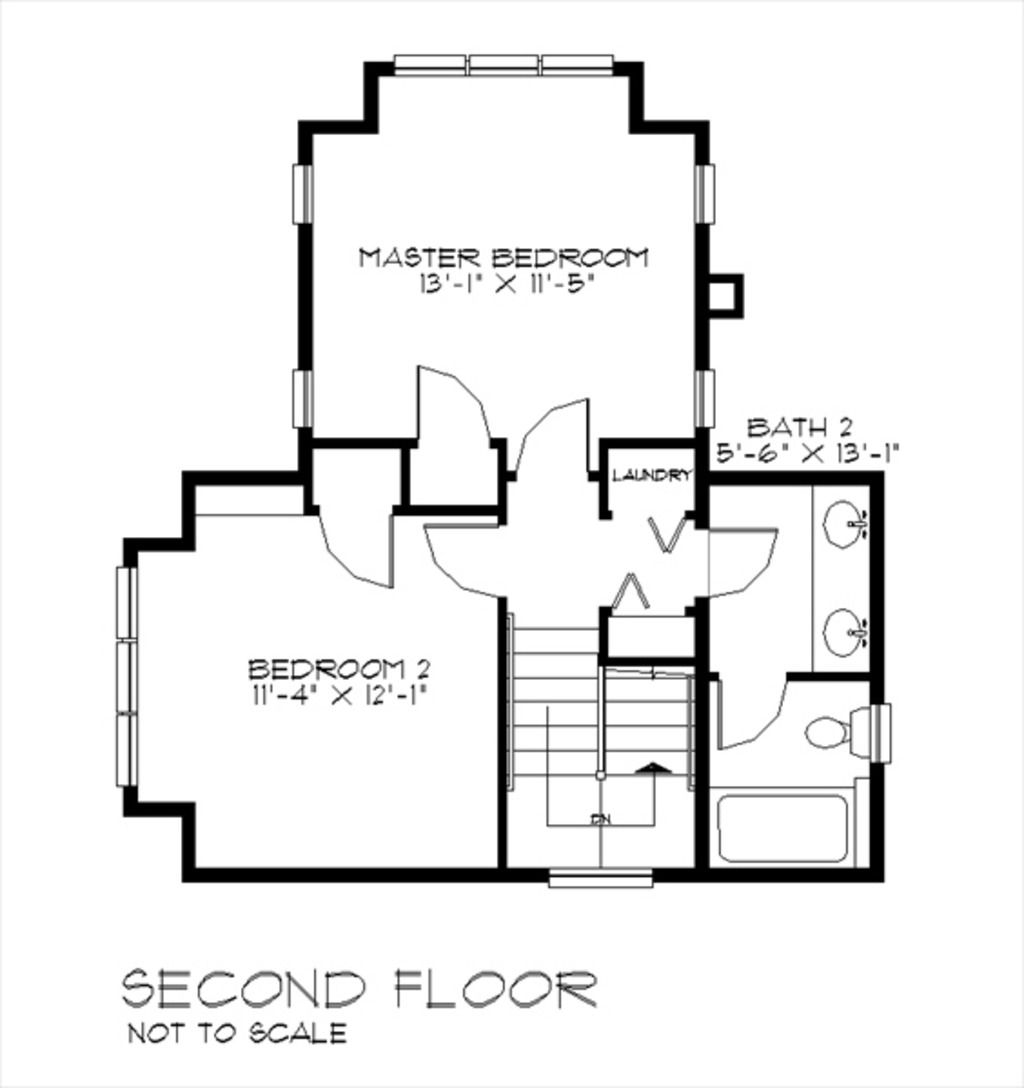door: (319, 509, 409, 595), (505, 402, 602, 480), (425, 512, 509, 595), (415, 360, 492, 442), (714, 662, 785, 749), (710, 522, 785, 602)
large_sink: (800, 699, 902, 765)
small_sink: (795, 485, 880, 667)
stairs: (512, 614, 690, 862)
tub: (712, 784, 874, 869)
window: (107, 557, 147, 789), (395, 47, 615, 79), (685, 352, 735, 434), (290, 359, 322, 435), (692, 159, 722, 230), (292, 162, 312, 229)
